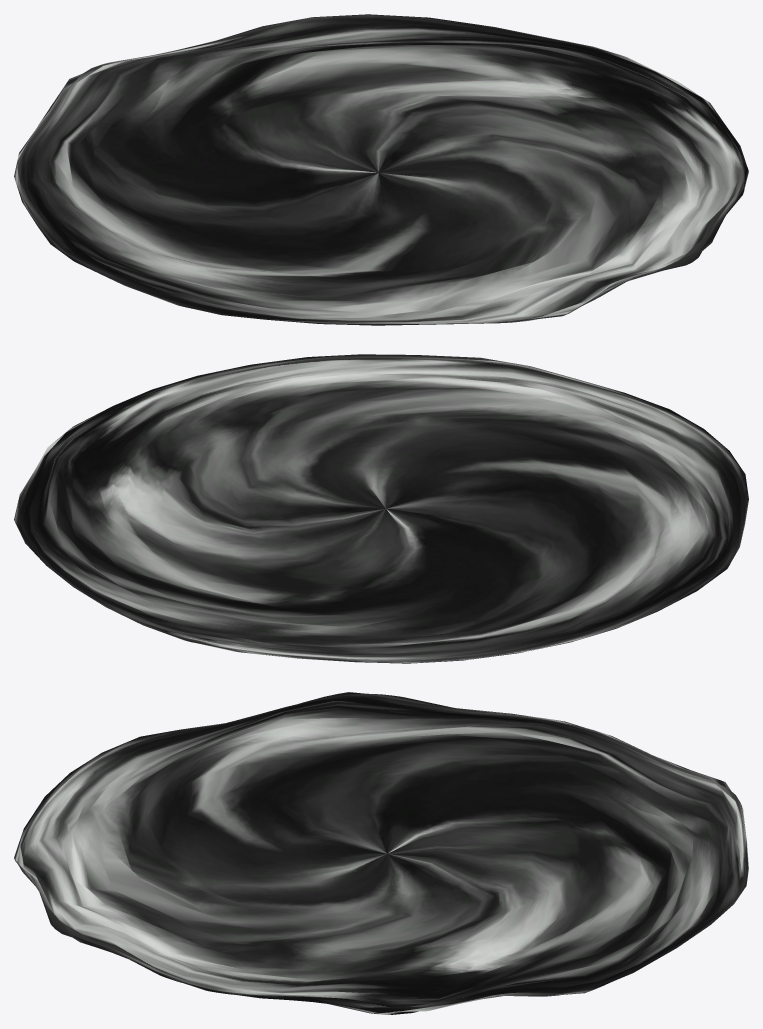
File: fx_ring_fuxi_mesh.fbx
The picture shows the model from 3 angles, top to bottom: view 1: azimuth 30°, elevation 25°; view 2: azimuth 150°, elevation 25°; view 3: azimuth 270°, elevation 25°; orthographic projection.
Visible parts, largest first — view 1: pSphere1; view 2: pSphere1; view 3: pSphere1.
Part boxes in pixels (x1,y1,x2,y2): pSphere1: [14, 14, 748, 325]; pSphere1: [14, 354, 748, 663]; pSphere1: [14, 692, 748, 1014].
Size of the model in its own units: 29.4 by 0.4339 by 29.
